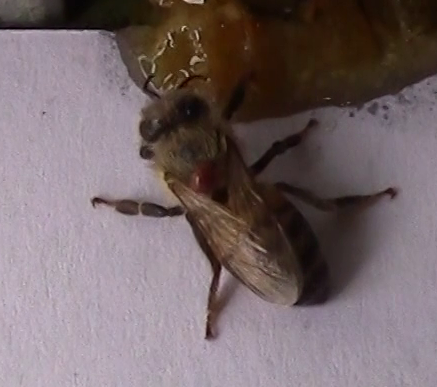Varroa destructor: (184, 155, 225, 196)
